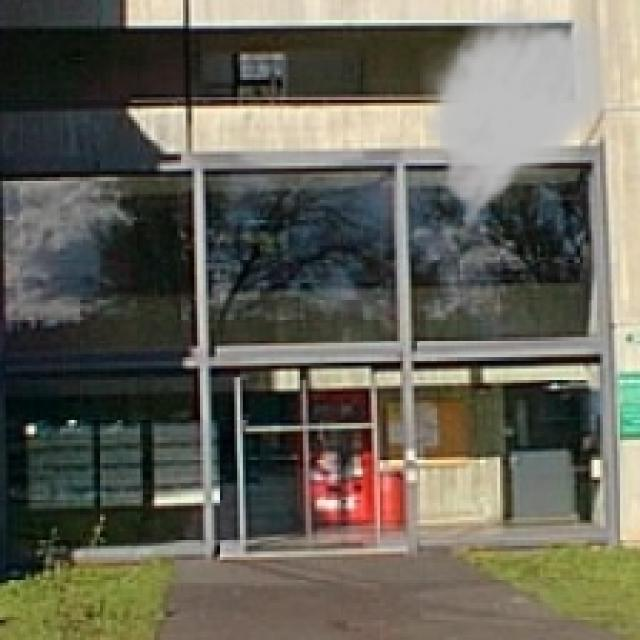smoke: (417, 3, 623, 251)
